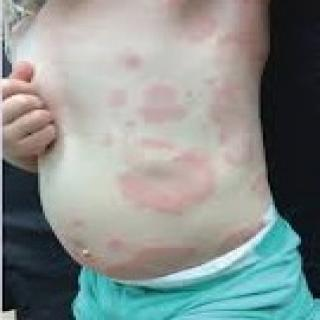urticaria: (110, 91, 211, 239), (212, 45, 258, 182)
